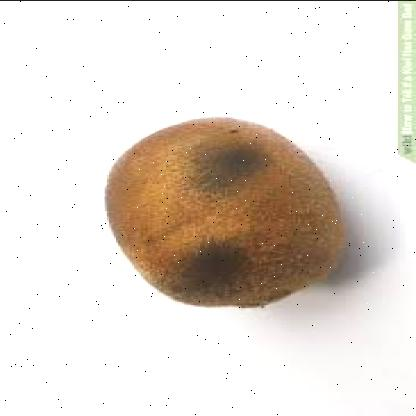damaged_apple: (102, 116, 350, 310)
